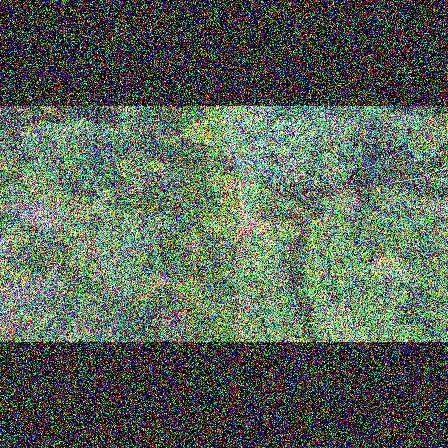Dead: (24, 287, 81, 315), (0, 282, 57, 305), (2, 198, 57, 220), (29, 278, 83, 298), (22, 209, 74, 226), (0, 277, 38, 294), (3, 277, 30, 288)
